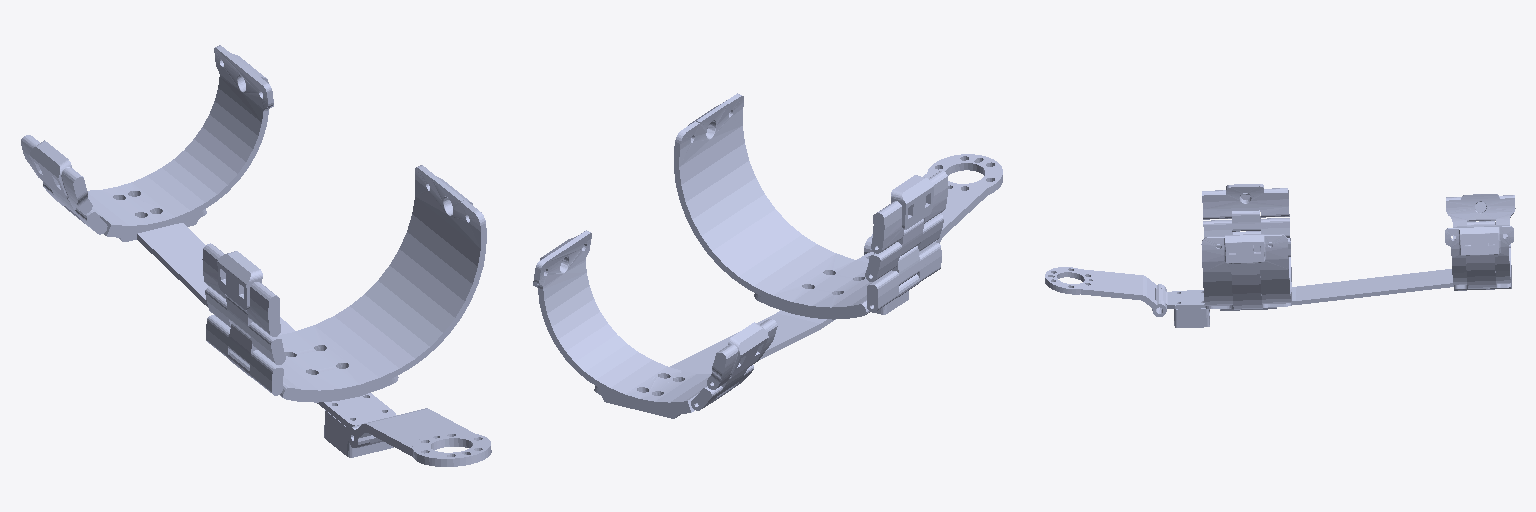
URDF robot description (knee_exo):
<?xml version='1.0' encoding='utf-8'?>
<robot name="knee_exo">
  <!-- Generated from knee_exo_R.urdf by tools/mirror_knee_urdf.py: CAD local X reflection. Meshes, COM, inertia, transforms and joint axes mirrored; masses/limits preserved. -->
  <link name="base_link">
    <inertial>
      <origin xyz="-0.0073767 -0.18865 0.0094714" rpy="0 0 0" />
      <mass value="0.35343" />
      <inertia ixx="0.00045581" ixy="-6.1002e-06" ixz="1.0677e-05" iyy="0.00044459" iyz="5.5582e-06" izz="0.00064814" />
    </inertial>
    <visual>
      <origin xyz="0 0 0" rpy="0 0 0" />
      <geometry>
        <mesh filename="package://knee_exo/meshes/base_link_L.STL" />
      </geometry>
      <material name="">
        <color rgba="1 1 1 1" />
      </material>
    </visual>
    <collision>
      <origin xyz="0 0 0" rpy="0 0 0" />
      <geometry>
        <mesh filename="package://knee_exo/meshes/base_link_L.STL" />
      </geometry>
    </collision>
  </link>
  <link name="shank_link">
    <inertial>
      <origin xyz="0.0043207 0.15773 0.0087075" rpy="0 0 0" />
      <mass value="0.19648" />
      <inertia ixx="0.00032827" ixy="1.7573e-06" ixz="-4.4171e-05" iyy="0.00013433" iyz="-2.2475e-05" izz="0.00038484" />
    </inertial>
    <visual>
      <origin xyz="0 0 0" rpy="0 0 0" />
      <geometry>
        <mesh filename="package://knee_exo/meshes/shank_link_L.STL" />
      </geometry>
      <material name="">
        <color rgba="0.79608 0.82353 0.93725 1" />
      </material>
    </visual>
    <collision>
      <origin xyz="0 0 0" rpy="0 0 0" />
      <geometry>
        <mesh filename="package://knee_exo/meshes/shank_link_L.STL" />
      </geometry>
    </collision>
  </link>
  <joint name="knee_joint" type="revolute">
    <origin xyz="0 0 0" rpy="0 0 0" />
    <parent link="base_link" />
    <child link="shank_link" />
    <axis xyz="0 0 -1" />
    <limit lower="0" upper="1.9199" effort="20" velocity="20" />
  </joint>
</robot>

--- What the picture shows (computed from the rendered views, not written in the file) ---
3 views of the same robot in one strip: view 1: azimuth 30°, elevation 25°; view 2: azimuth 150°, elevation 25°; view 3: azimuth 270°, elevation 25° (orthographic).
Model knee_exo with 2 links and 1 joints (1 revolute), rooted at base_link, posed all joints at 0.
Links seen in each view (by area): view 1: shank_link; view 2: shank_link; view 3: shank_link.
Boxes of the visible links, x1,y1,x2,y2 form: shank_link: (21, 45, 491, 466); shank_link: (533, 93, 1002, 418); shank_link: (1045, 184, 1515, 327).
Bounding box of the posed robot: 0.1257 × 0.3273 × 0.0985 m (x, y, z).
Meshes: 2 distinct files referenced, 1 mesh visuals loaded (1 binary STL); not drawn: 1 (reference not matched to a file when rendering).
